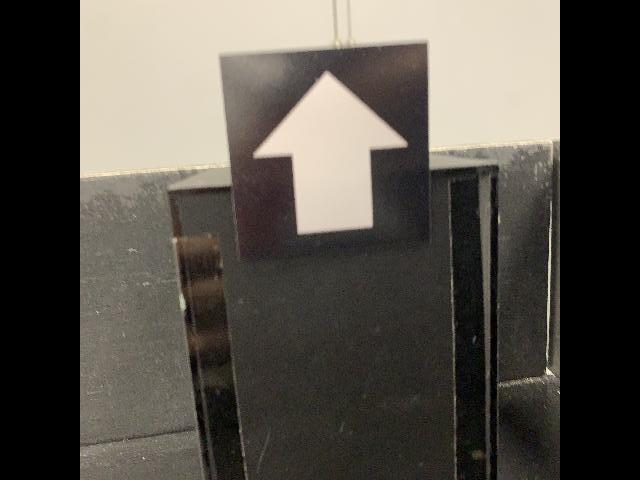up: (217, 37, 436, 267)
